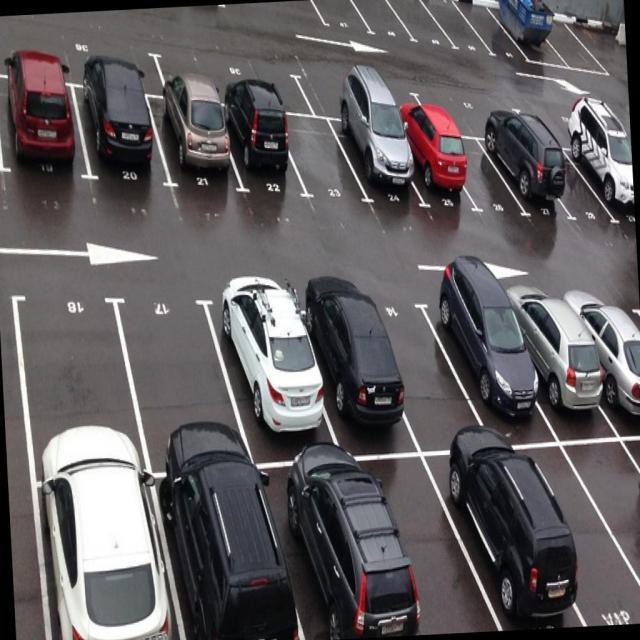car: (40, 473, 170, 640), (454, 448, 556, 630), (178, 470, 274, 640), (278, 473, 372, 640), (230, 280, 306, 448), (445, 288, 523, 451), (82, 76, 166, 216), (520, 277, 592, 439), (2, 70, 76, 216), (319, 288, 382, 446), (580, 282, 640, 439), (156, 94, 232, 212), (223, 96, 293, 215), (341, 106, 411, 216), (490, 129, 560, 229), (406, 115, 462, 224), (574, 134, 634, 222)
free: (380, 454, 486, 636), (528, 443, 626, 624), (22, 288, 128, 437), (139, 281, 220, 474), (570, 418, 640, 626), (380, 297, 458, 453), (159, 39, 304, 120), (0, 15, 150, 90), (288, 112, 354, 216), (450, 122, 508, 232), (533, 127, 599, 220), (311, 70, 416, 120), (460, 0, 526, 71), (522, 96, 622, 142), (425, 0, 486, 68), (386, 0, 450, 61), (345, 0, 406, 55), (424, 95, 522, 124), (309, 0, 360, 40)
